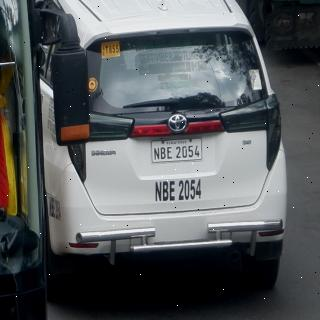license: (152, 140, 203, 164)
